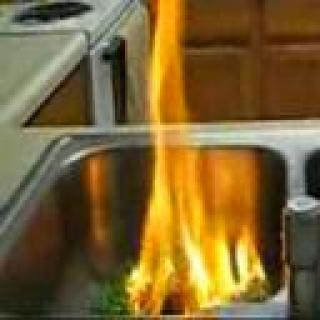fire: (119, 0, 261, 313)
